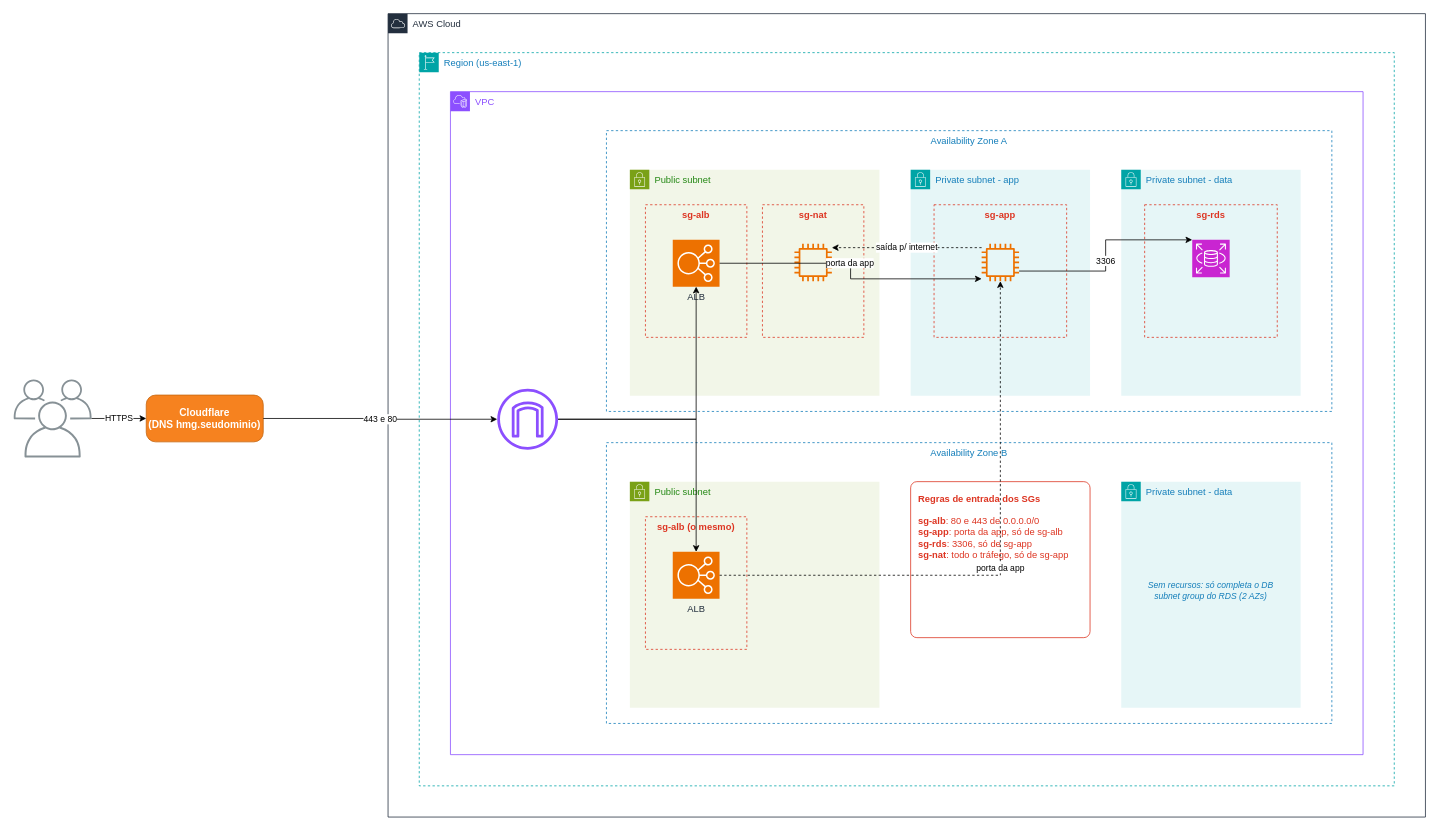
Some shapes in this 1439 by 831 pixel diagram are drawn without their labels. The centre of each missing label's shape, as x and y in pixels:
"EC2 app" belongs at (1000,262).
"Internet Gateway" belongs at (527,418).
"NAT instance" belongs at (812,262).
"RDS MySQL" belongs at (1210,258).
"users" belongs at (52,418).
